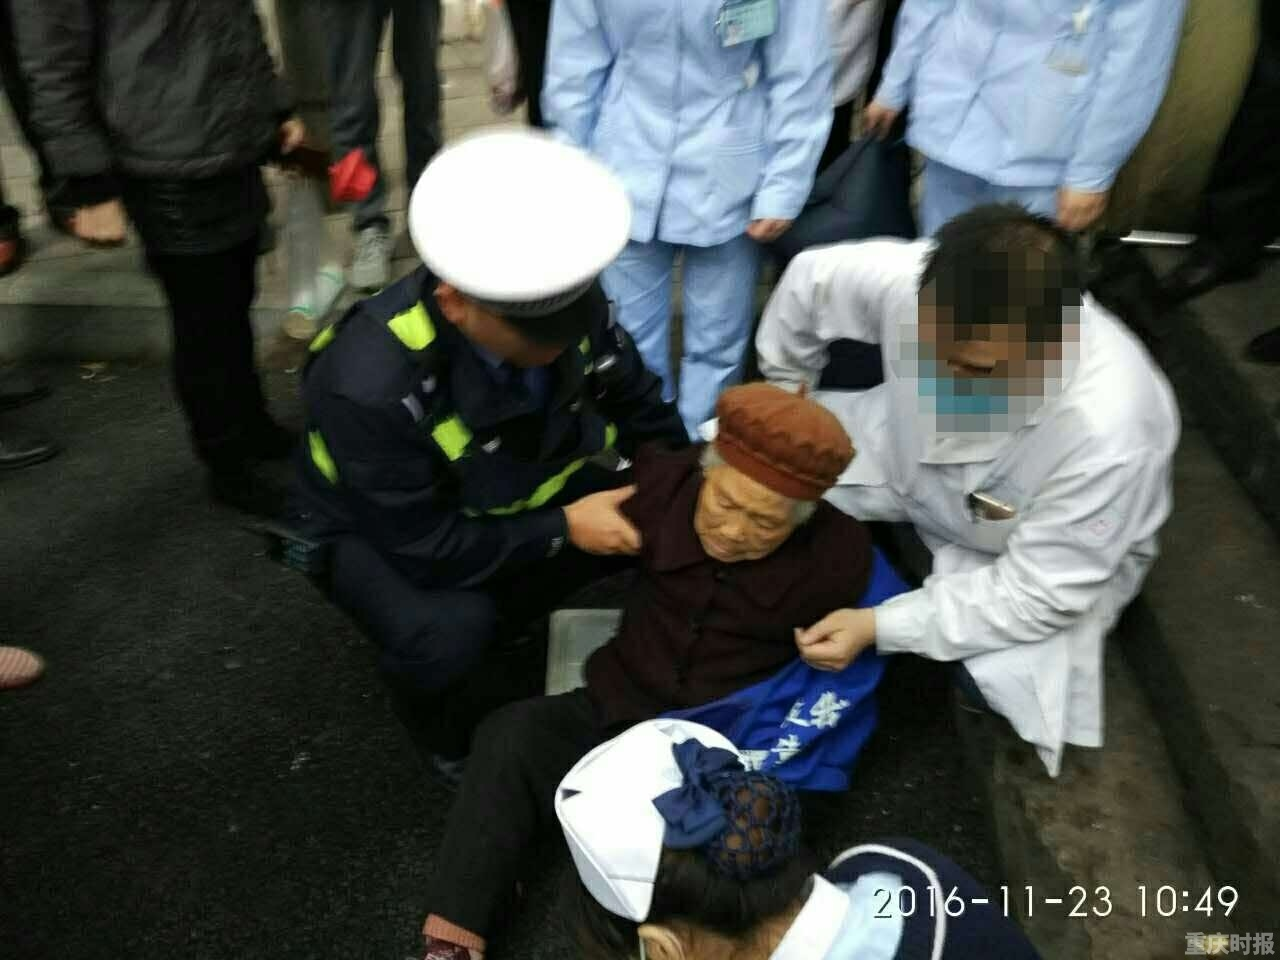falling: (396, 366, 890, 960)
